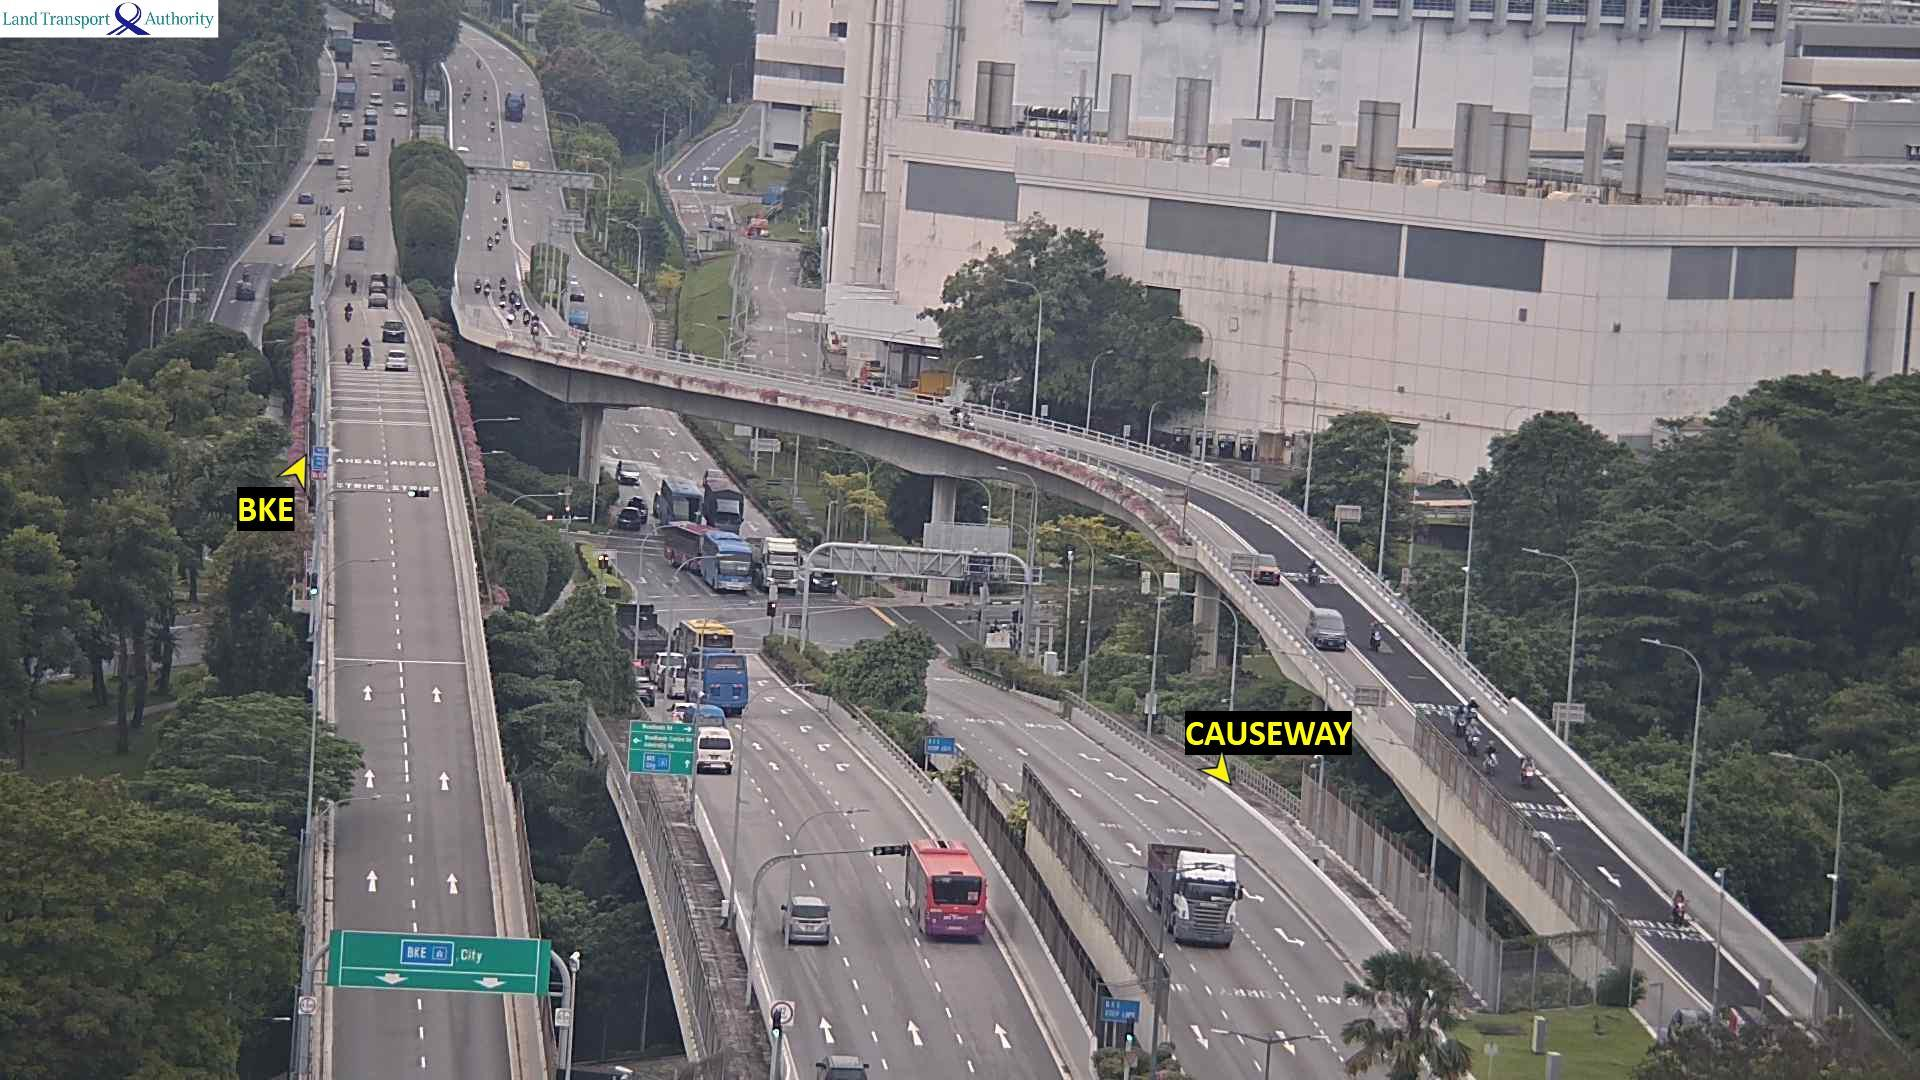vehicle-causeway-johor: (1143, 836, 1255, 953), (704, 534, 748, 588), (703, 472, 742, 529), (757, 539, 795, 587), (1308, 605, 1346, 647), (663, 479, 700, 521), (663, 526, 703, 563), (1250, 553, 1278, 582), (953, 409, 977, 430), (1668, 889, 1681, 923), (1518, 753, 1534, 781), (1481, 741, 1495, 770), (1469, 720, 1478, 754), (1455, 705, 1464, 735), (1305, 559, 1317, 580), (473, 282, 489, 298), (522, 310, 534, 327), (1468, 696, 1477, 717), (533, 314, 541, 334), (509, 310, 517, 323), (578, 335, 584, 349), (500, 295, 508, 307), (514, 297, 521, 307), (484, 284, 488, 295), (502, 280, 506, 289)
vehicle-causeway-singapore: (905, 845, 993, 947), (680, 663, 757, 711), (778, 899, 833, 940), (679, 624, 745, 651), (815, 1058, 874, 1080), (671, 708, 729, 727), (699, 760, 740, 775), (360, 335, 375, 372), (384, 322, 404, 345), (369, 294, 388, 311), (372, 276, 386, 294), (389, 360, 409, 373), (345, 298, 353, 324), (351, 235, 363, 251), (344, 344, 353, 364)
